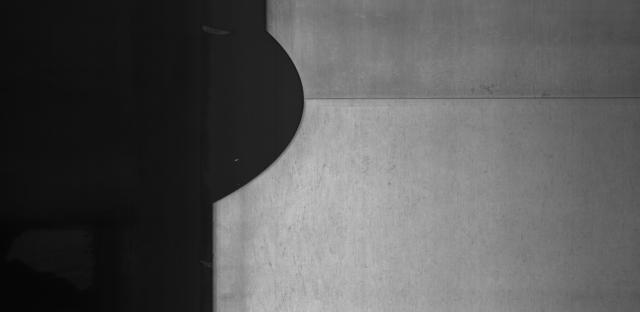crescent_gap: (202, 16, 310, 209)
welding_line: (305, 84, 635, 110)
